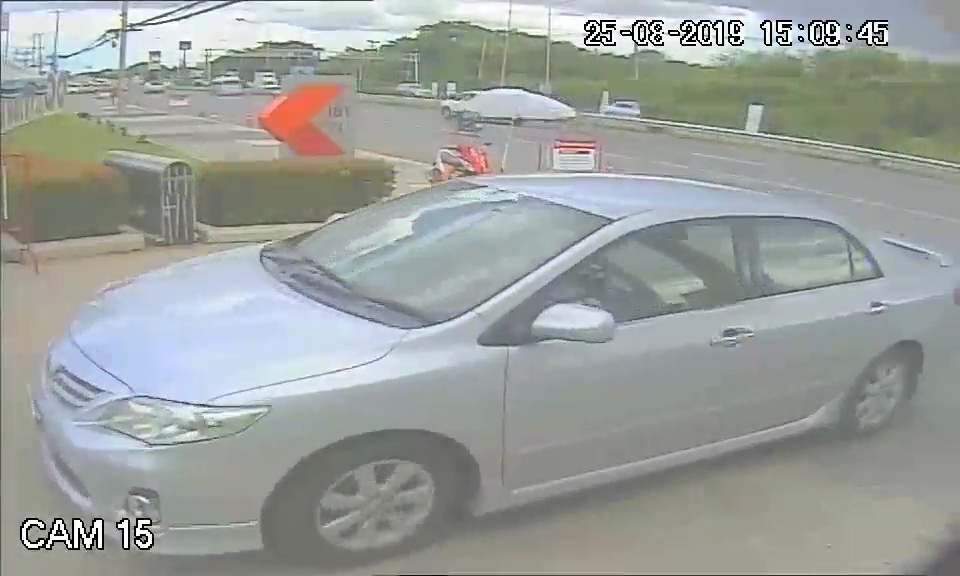sedan: (18, 165, 696, 565)
